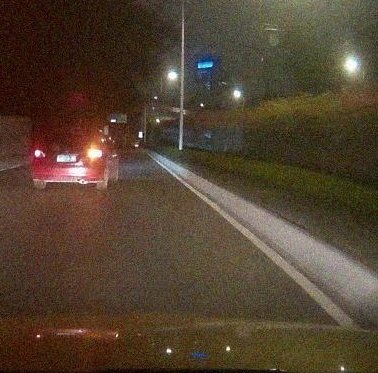L_light: (34, 150, 46, 158)
R_light: (87, 149, 102, 158)
T_light: (65, 131, 76, 135)
night-right: (31, 128, 103, 189)
